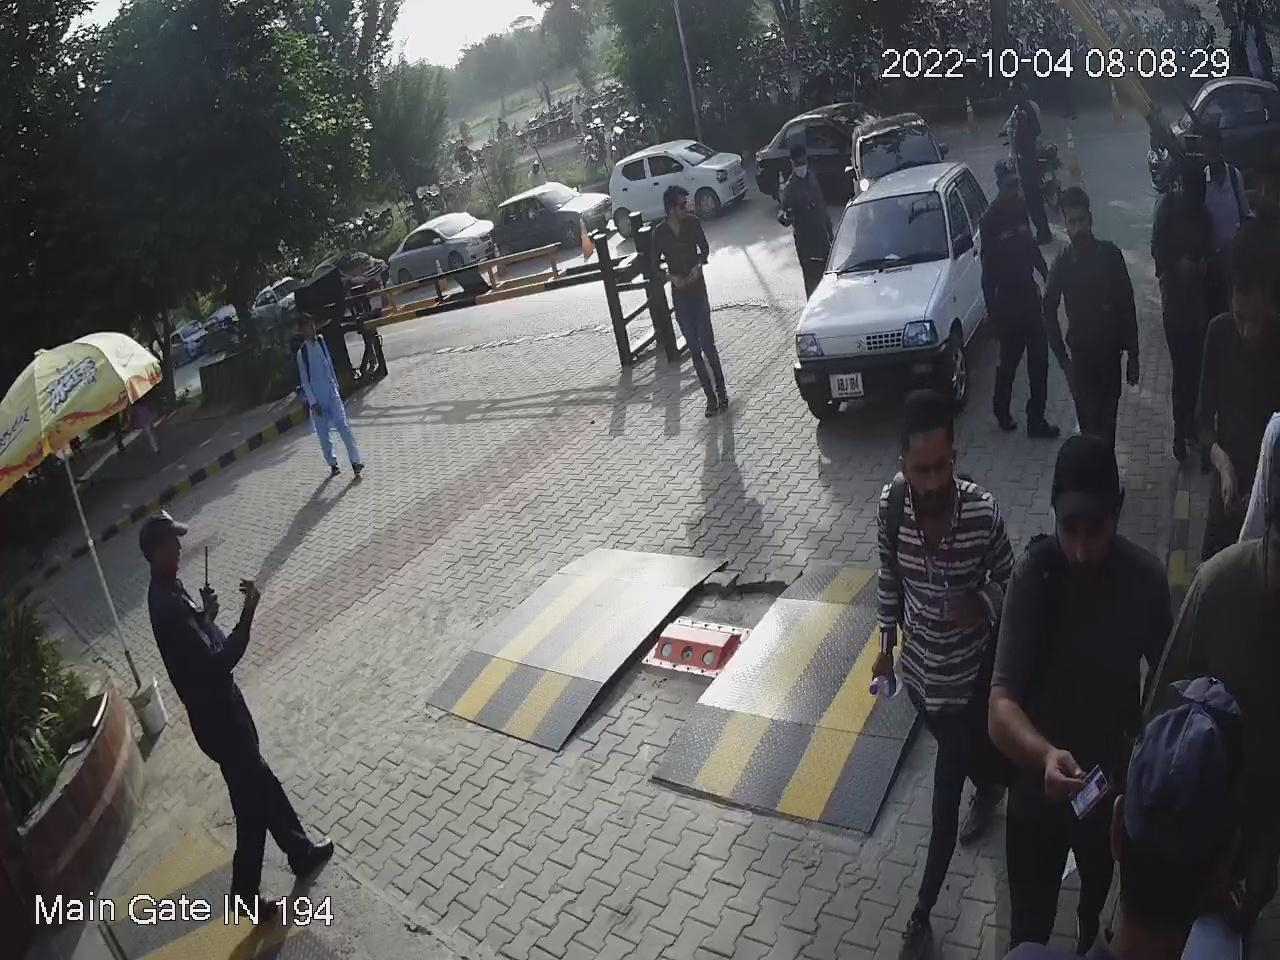windshield: (827, 181, 952, 277)
